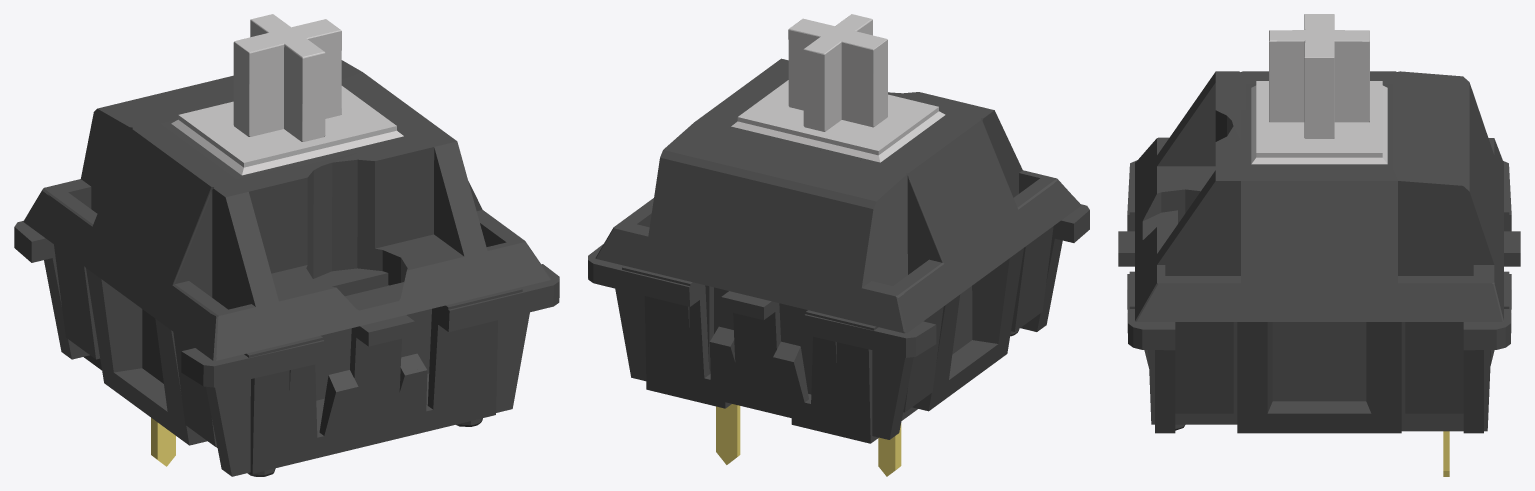
File: MX_SWITCH_opt.glb
3 views of the same model, side by side, from view 1: azimuth 30°, elevation 25°; view 2: azimuth 150°, elevation 25°; view 3: azimuth 270°, elevation 25° (orthographic). The views are drawn at different scales.
Visible parts, largest first — view 1: switch: 7-7; view 2: switch: 7-7; view 3: switch: 7-7.
Part boxes in pixels (box(x1,y1,x2,y2)): switch: 7-7: box(14, 14, 559, 476); switch: 7-7: box(588, 14, 1089, 476); switch: 7-7: box(1118, 14, 1520, 476).
Bounding box in the file's own units: 16 × 18.28 × 16.
